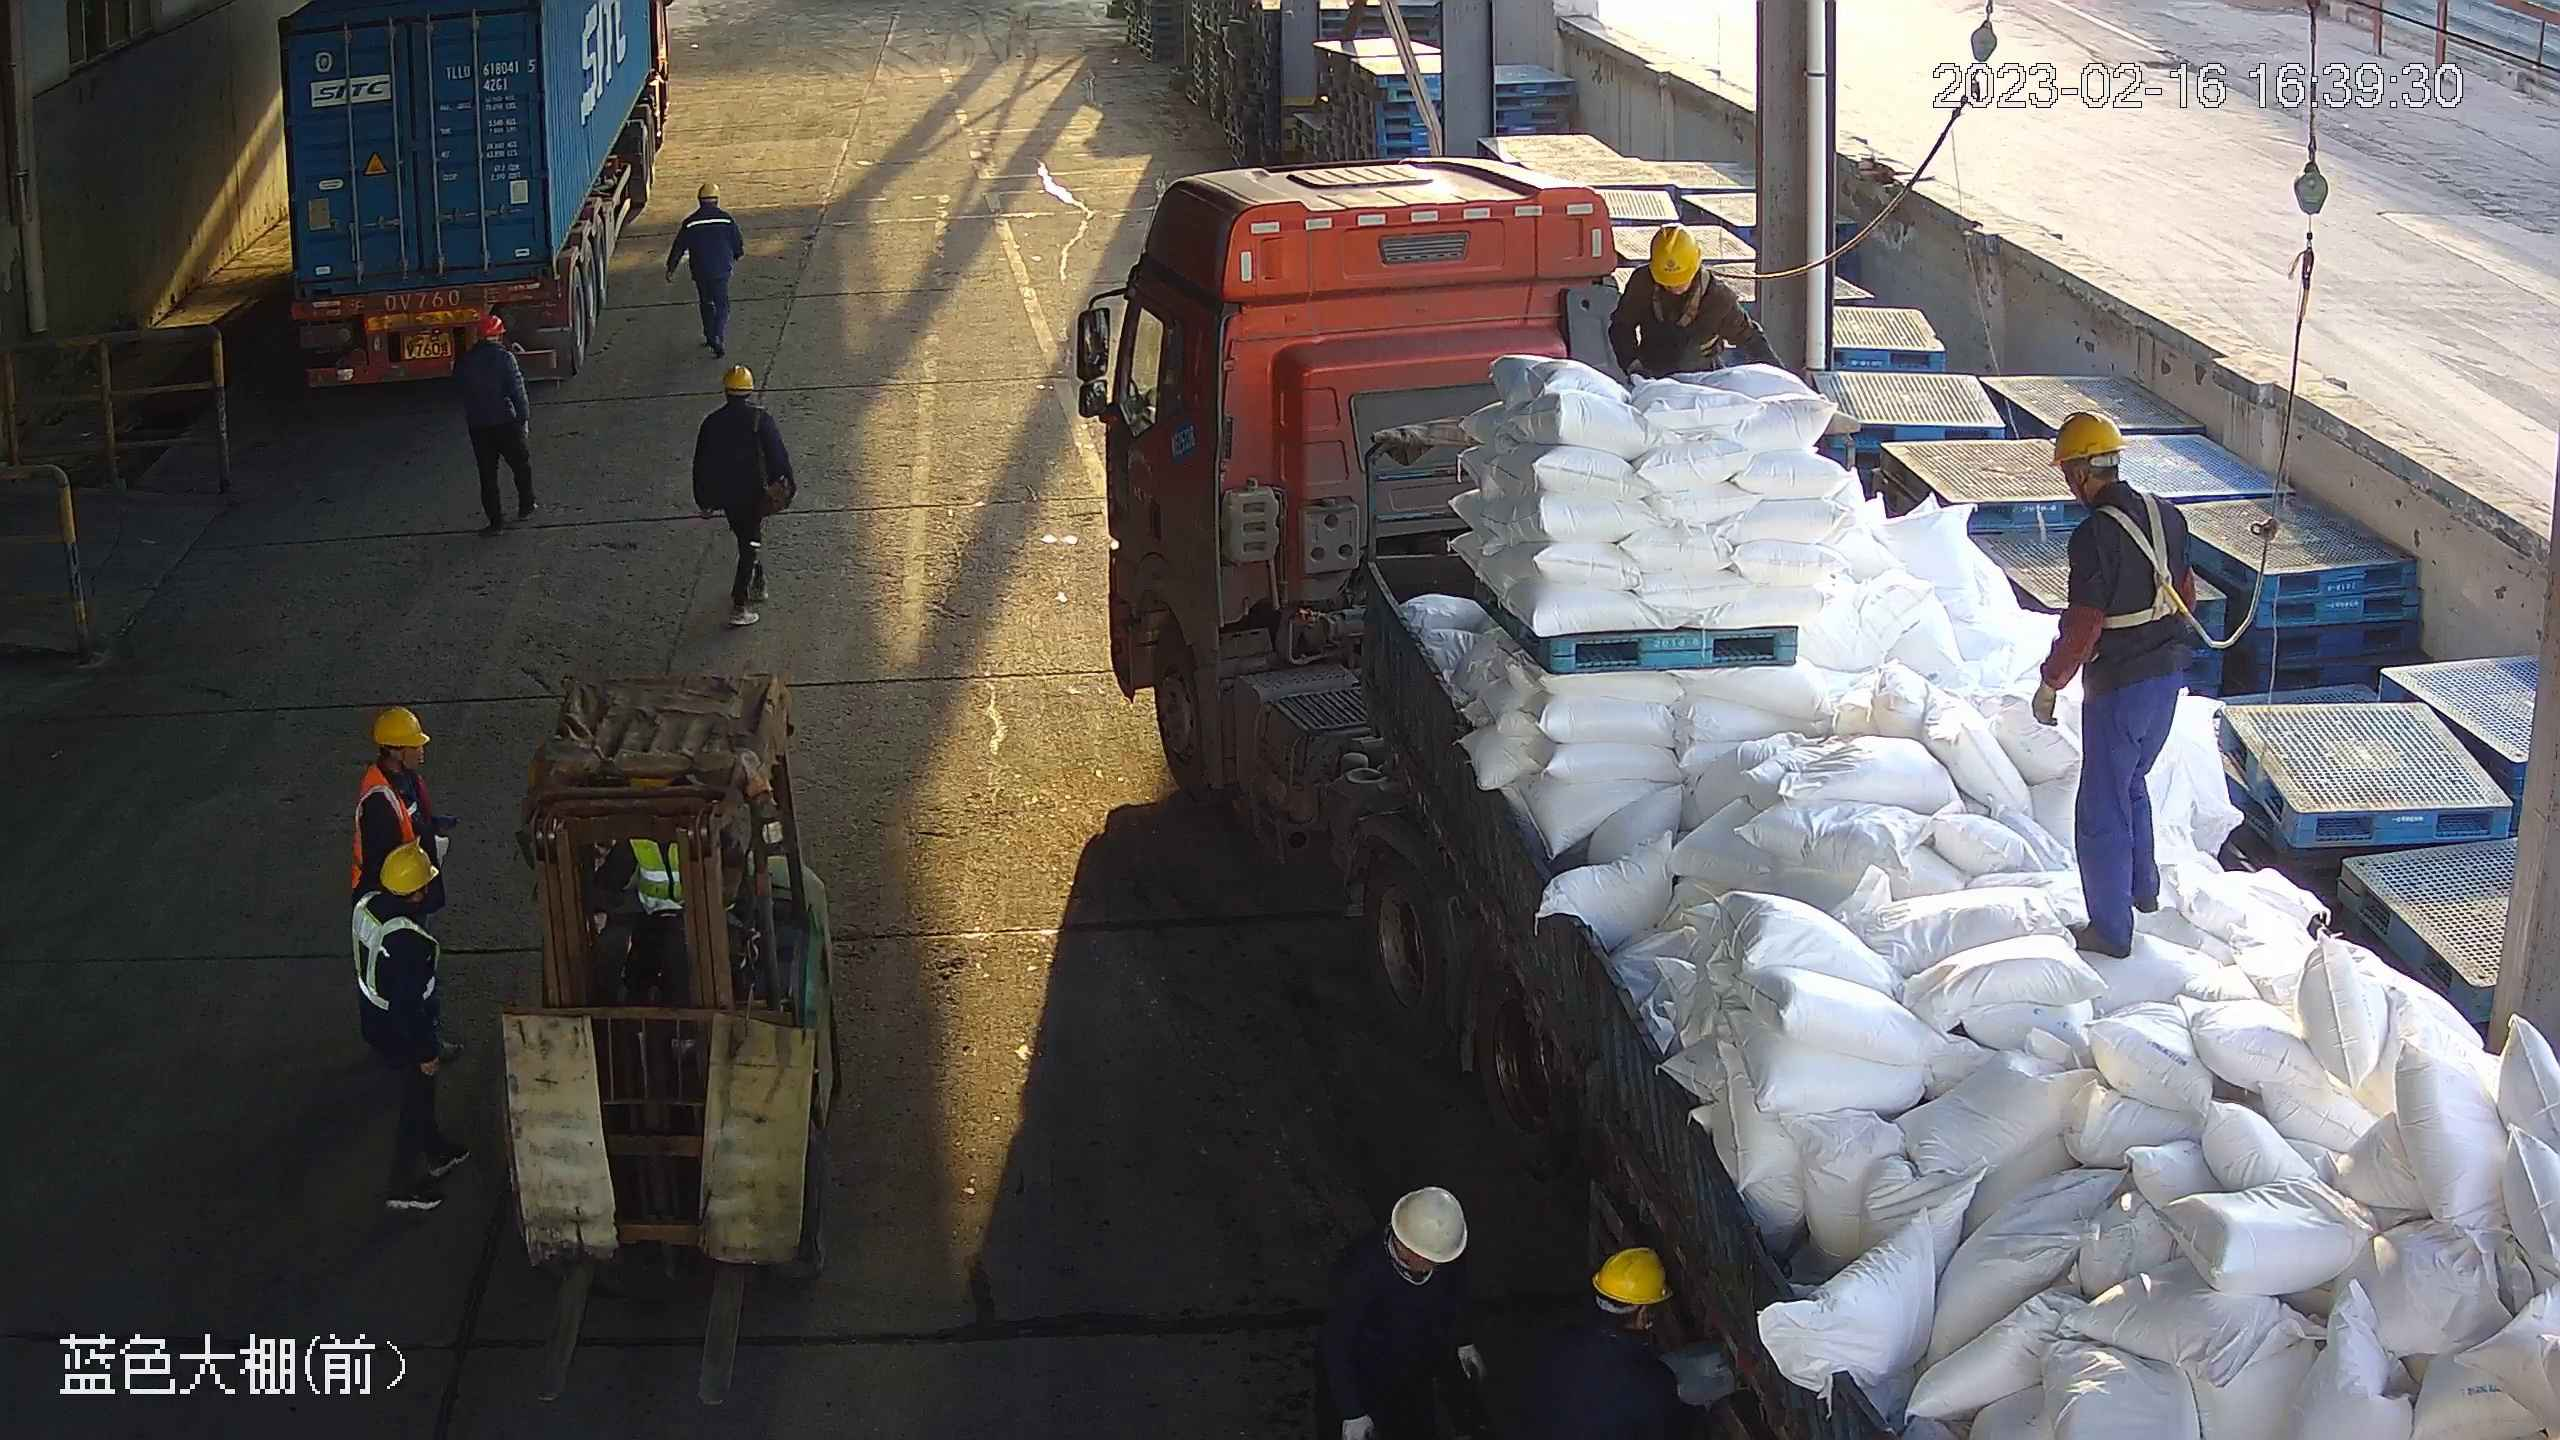belt: (2090, 488, 2259, 652), (1643, 260, 1757, 324)
head: (1532, 1247, 1678, 1398), (2050, 410, 2193, 550), (1332, 1185, 1470, 1300), (350, 841, 440, 957), (1627, 224, 1741, 302), (358, 703, 433, 817), (695, 361, 780, 433), (456, 314, 520, 366), (679, 182, 740, 229)
helmet: (1389, 1185, 1468, 1265), (1590, 1247, 1675, 1306), (2048, 409, 2125, 468), (1647, 224, 1704, 288), (379, 841, 439, 895), (371, 705, 431, 749), (722, 362, 754, 390), (476, 315, 506, 336), (697, 182, 721, 199)
people: (350, 840, 473, 1214), (1320, 1184, 1484, 1440), (691, 362, 799, 629), (449, 314, 542, 541), (662, 181, 748, 360)
truck: (1099, 159, 2560, 1440), (275, 1, 676, 393)
